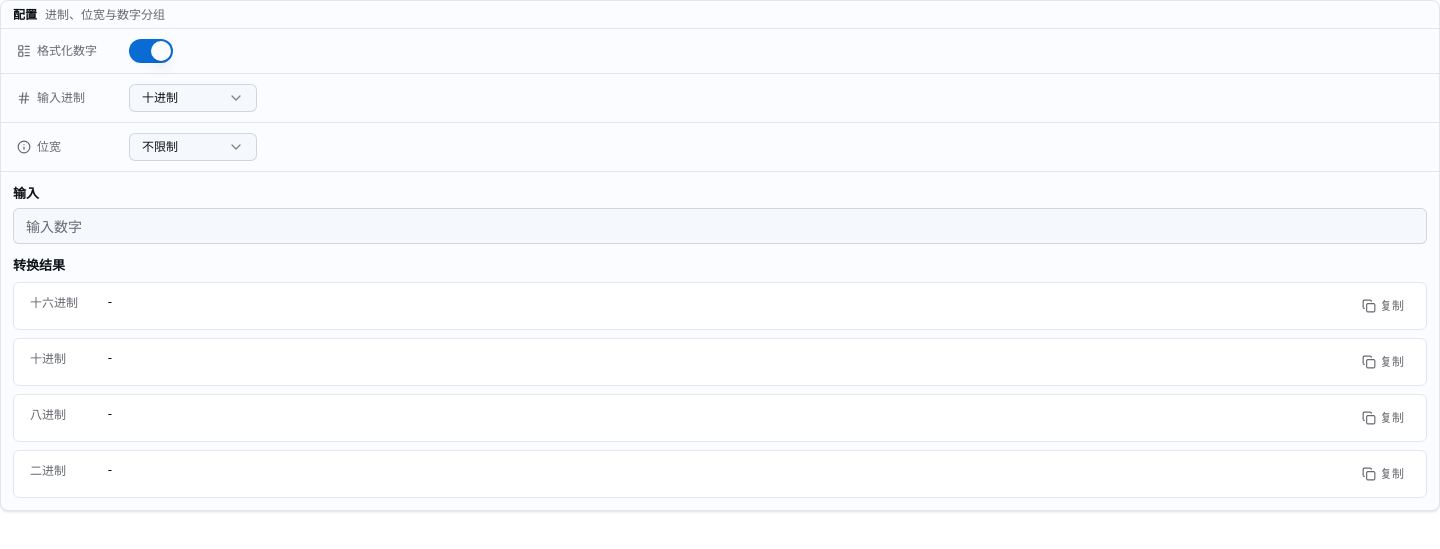
NumberBaseConverter › 非法输入显示错误
This screenshot has width=1440, height=549.
Type "xyz" into the field with test id "nb-input" at (720, 226), box [13,208,1427,244]
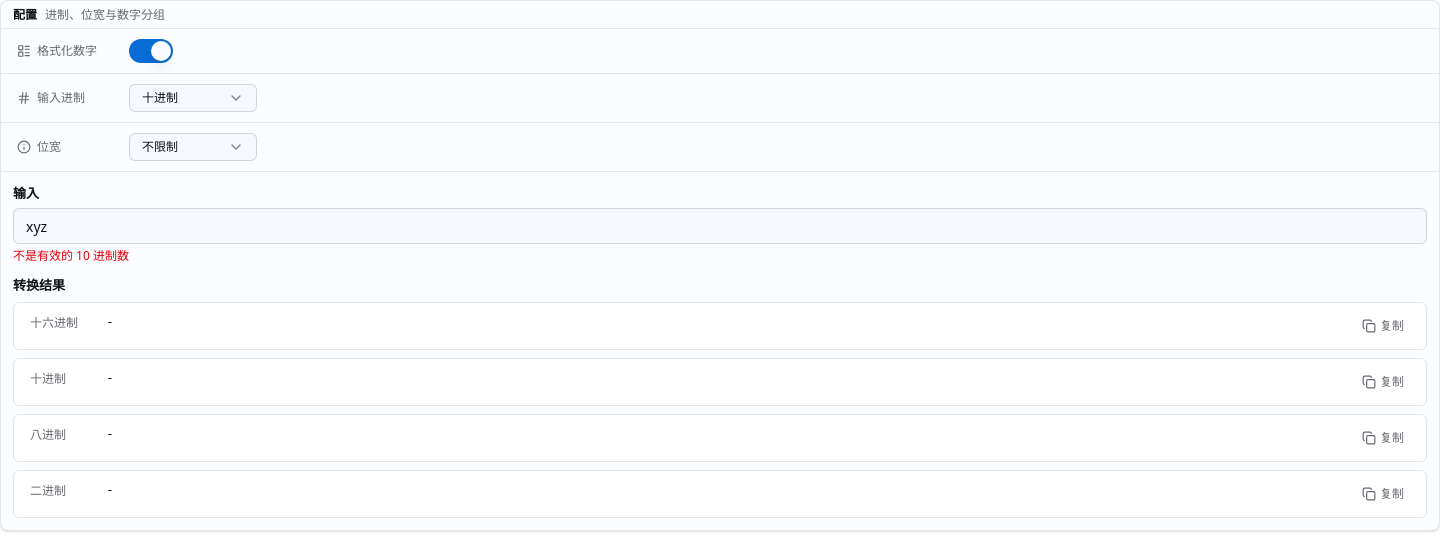
Expected: the text "不是有效的 10 进制数" is shown, [13,247,129,264]
